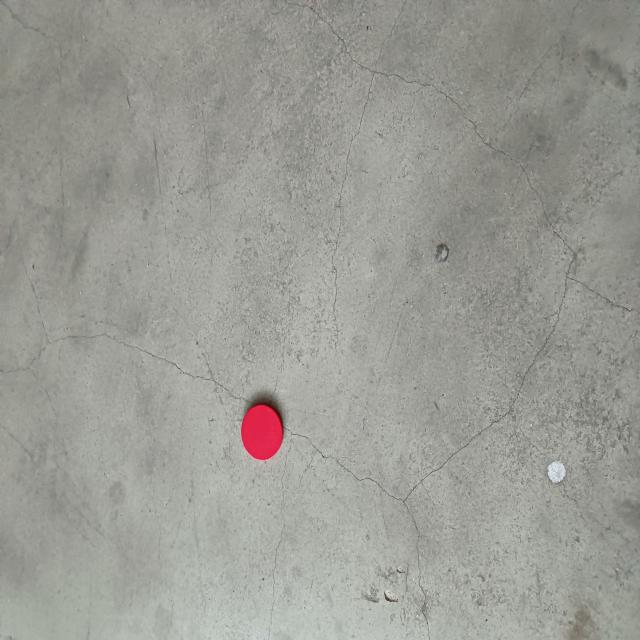chip: (242, 403, 282, 462)
